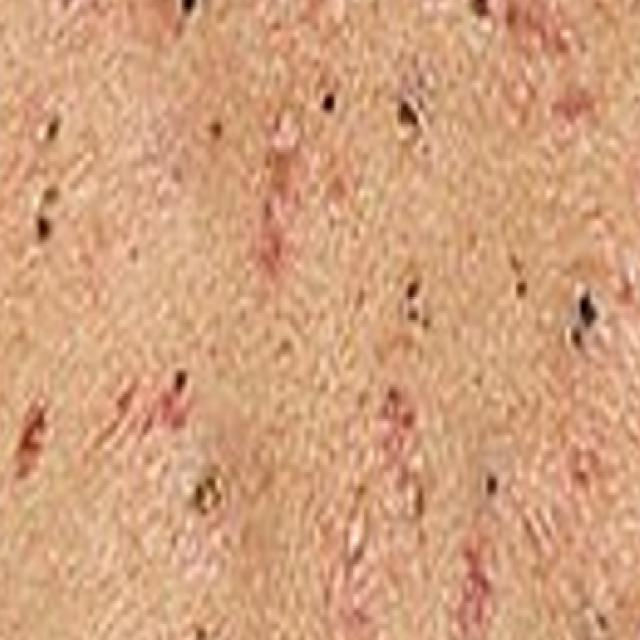blackhead: (191, 471, 225, 519), (577, 289, 602, 331), (395, 96, 419, 134), (31, 211, 54, 245), (405, 308, 436, 332), (41, 112, 62, 145), (38, 181, 63, 208), (172, 0, 204, 21), (565, 321, 585, 351), (207, 115, 227, 144), (173, 365, 190, 399), (593, 608, 612, 636), (466, 0, 491, 21), (320, 89, 338, 116), (405, 275, 421, 303), (514, 276, 530, 300), (484, 471, 499, 496), (190, 624, 210, 640)
